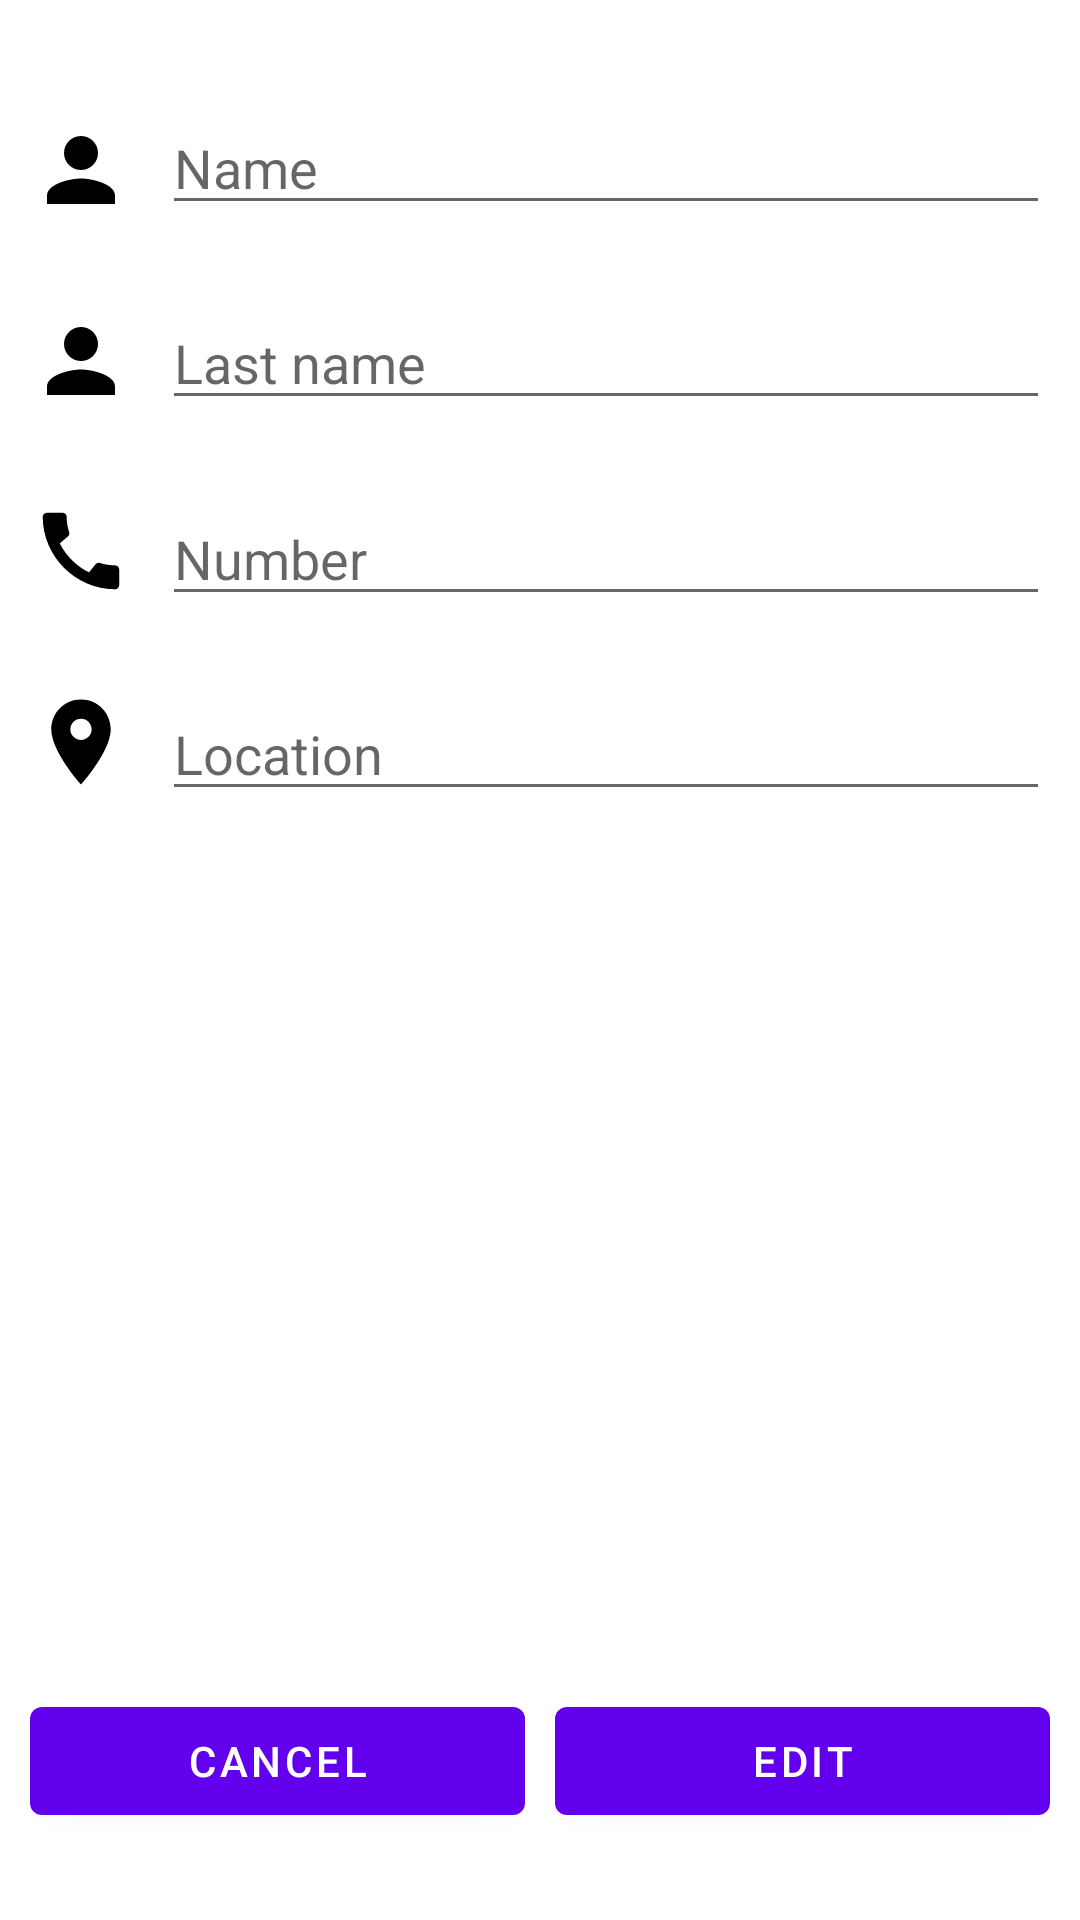

Point at icon controls on the screen. Image size 1080 × 1920, points as (x=x, y=y).
call: (x=81, y=551)
person: (x=81, y=170), (x=81, y=361)
